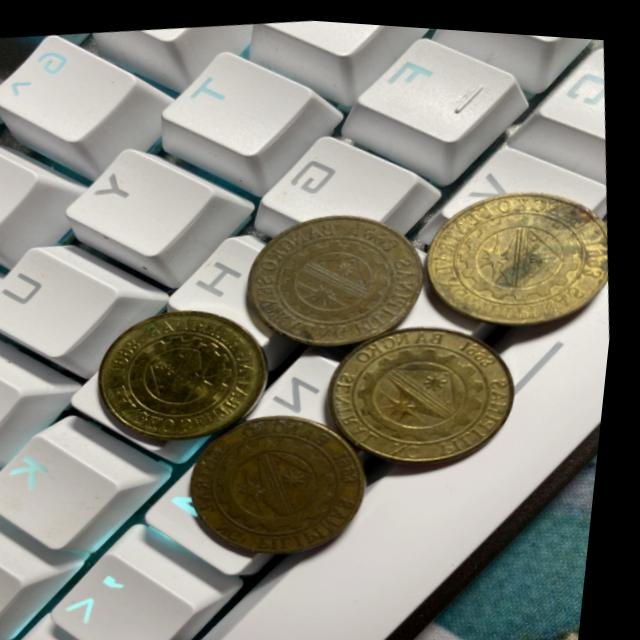25Cent_Old_Back: (242, 191, 443, 351), (191, 394, 376, 555), (434, 181, 622, 322), (341, 316, 527, 456), (109, 297, 265, 431)
